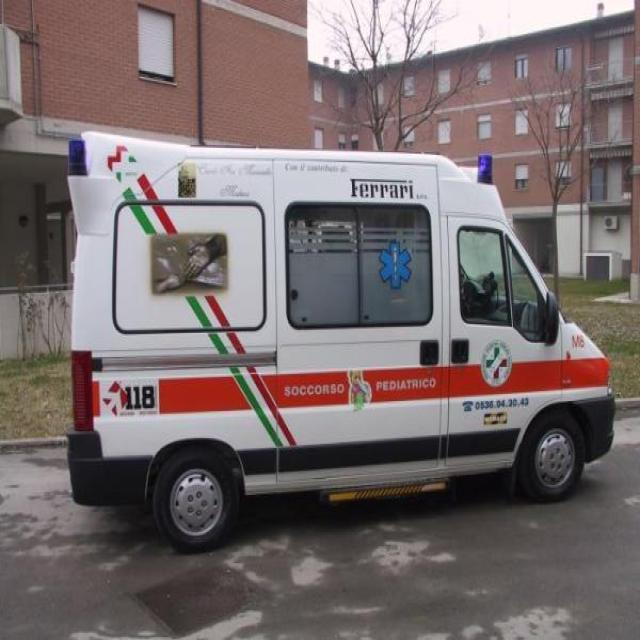emergency-vehicle: (59, 155, 616, 555)
